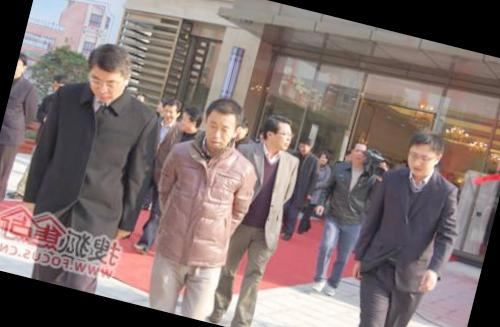no_helmet: (76, 35, 140, 108), (194, 90, 250, 157), (397, 124, 449, 182), (256, 110, 300, 156), (176, 100, 208, 137), (154, 92, 181, 125), (347, 138, 373, 168), (14, 48, 32, 82), (296, 132, 314, 158), (313, 145, 333, 166)
